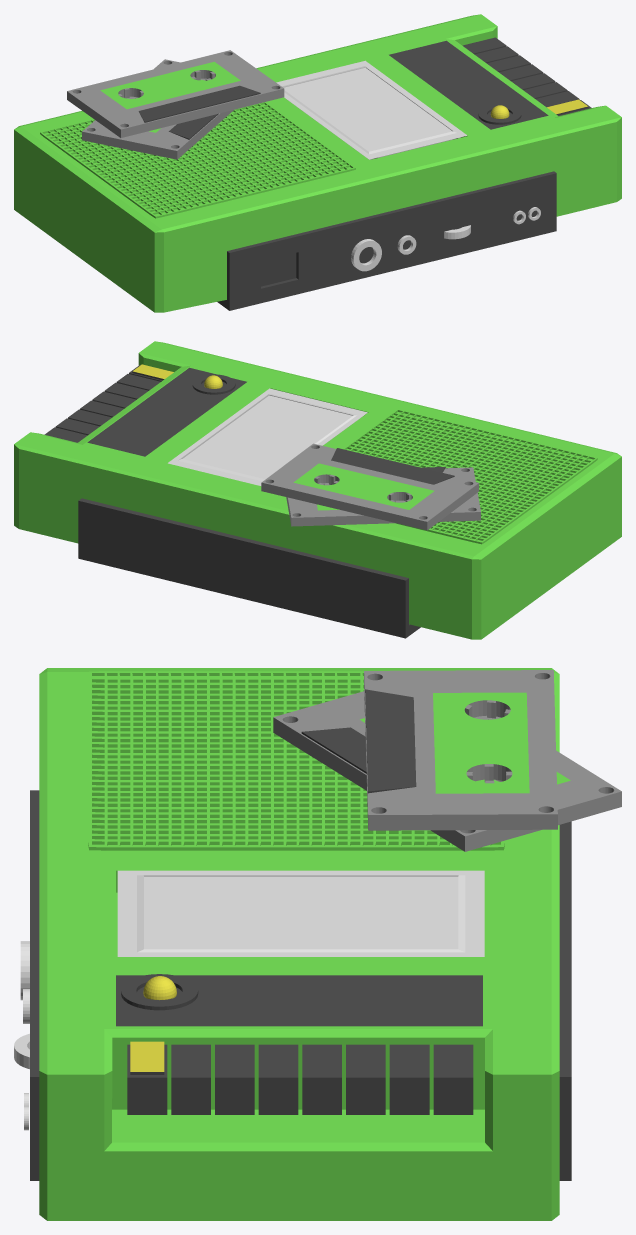
The model's file is cassetteplayer.fbx.
3 renders of one model, top to bottom at view 1: azimuth 30°, elevation 25°; view 2: azimuth 150°, elevation 25°; view 3: azimuth 270°, elevation 25°, orthographic. The views are drawn at different scales.
Visible parts, largest first — view 1: Base, Cube.001, Plane.003, Plane.005, Plane.001, Plane, buttons, Plane.002, Circle.004, Circle.006; view 2: Base, Cube.001, Plane.003, Plane.005, Plane.001, Plane, buttons, Plane.002, Circle.006; view 3: Base, Plane.003, Plane.001, Plane.005, buttons, Plane, Plane.002, Cube.001, Circle.006.
Boxes of the visible parts, x1=… form: Base: x1=14, y1=14, x2=621, y2=312; Cube.001: x1=217, y1=171, x2=556, y2=310; Plane.003: x1=40, y1=102, x2=355, y2=218; Plane.005: x1=67, y1=50, x2=284, y2=137; Plane.001: x1=276, y1=60, x2=467, y2=159; Plane: x1=389, y1=40, x2=548, y2=129; buttons: x1=462, y1=37, x2=591, y2=115; Plane.002: x1=82, y1=59, x2=233, y2=159; Circle.004: x1=351, y1=239, x2=381, y2=271; Circle.006: x1=478, y1=104, x2=521, y2=124; Base: x1=14, y1=341, x2=621, y2=639; Cube.001: x1=78, y1=498, x2=420, y2=638; Plane.003: x1=343, y1=409, x2=597, y2=544; Plane.005: x1=261, y1=443, x2=478, y2=530; Plane.001: x1=168, y1=388, x2=367, y2=485; Plane: x1=87, y1=367, x2=246, y2=456; buttons: x1=44, y1=364, x2=173, y2=442; Plane.002: x1=286, y1=467, x2=480, y2=526; Circle.006: x1=192, y1=374, x2=235, y2=394; Base: x1=39, y1=668, x2=559, y2=1220; Plane.003: x1=88, y1=671, x2=504, y2=850; Plane.001: x1=117, y1=870, x2=484, y2=956; Plane.005: x1=364, y1=670, x2=557, y2=830; buttons: x1=127, y1=1041, x2=473, y2=1114; Plane: x1=116, y1=975, x2=482, y2=1026; Plane.002: x1=273, y1=691, x2=621, y2=851; Cube.001: x1=30, y1=790, x2=571, y2=1180; Circle.006: x1=121, y1=974, x2=198, y2=1010.
Bounding box in the file's own units: 578 × 140 × 363.
